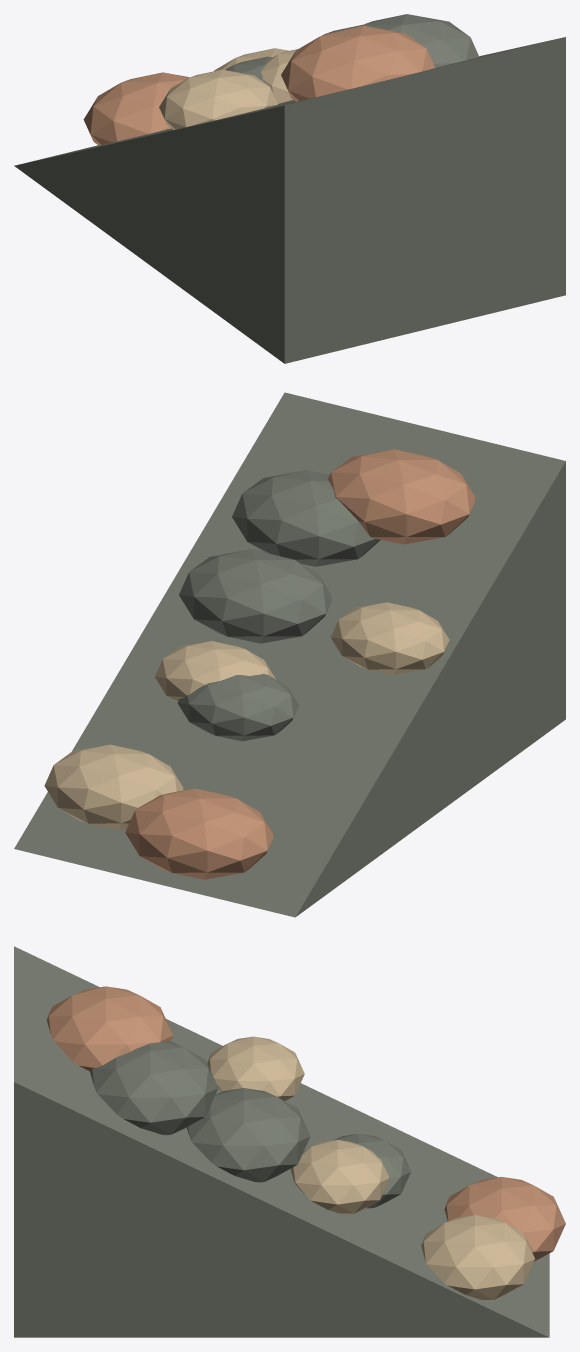
The model's file is debris_ramp_06.glb.
3 views of the same model, one above another, from view 1: azimuth 30°, elevation 25°; view 2: azimuth 150°, elevation 25°; view 3: azimuth 270°, elevation 25° (orthographic).
Visible parts, largest first — view 1: core, lump5, lump1, lump2, lump3, lump4, lump0, lump7; view 2: core, lump6, lump5, lump2, lump3, lump7, lump1, lump0, lump4; view 3: core, lump3, lump6, lump7, lump5, lump4, lump2, lump1, lump0.
Part boxes in pixels (x1,y1,x2,y2): core: [14, 37, 565, 363]; lump5: [281, 25, 434, 101]; lump1: [159, 69, 277, 129]; lump2: [83, 72, 189, 145]; lump3: [360, 14, 479, 67]; lump4: [261, 49, 297, 103]; lump0: [225, 56, 272, 83]; lump7: [214, 48, 288, 71]; core: [14, 392, 565, 917]; lump6: [179, 549, 331, 643]; lump5: [327, 449, 474, 544]; lump2: [125, 788, 273, 879]; lump3: [232, 470, 380, 566]; lump7: [44, 744, 183, 829]; lump1: [330, 602, 449, 674]; lump0: [177, 674, 298, 741]; lump4: [155, 641, 275, 702]; core: [14, 946, 549, 1337]; lump3: [90, 1041, 218, 1135]; lump6: [187, 1088, 310, 1182]; lump7: [421, 1215, 534, 1300]; lump5: [46, 986, 173, 1071]; lump4: [290, 1140, 388, 1214]; lump2: [444, 1177, 565, 1261]; lump1: [207, 1036, 304, 1100]; lump0: [333, 1133, 410, 1208].
Size of the model in its own units: 0.9029 by 0.8074 by 1.55.
